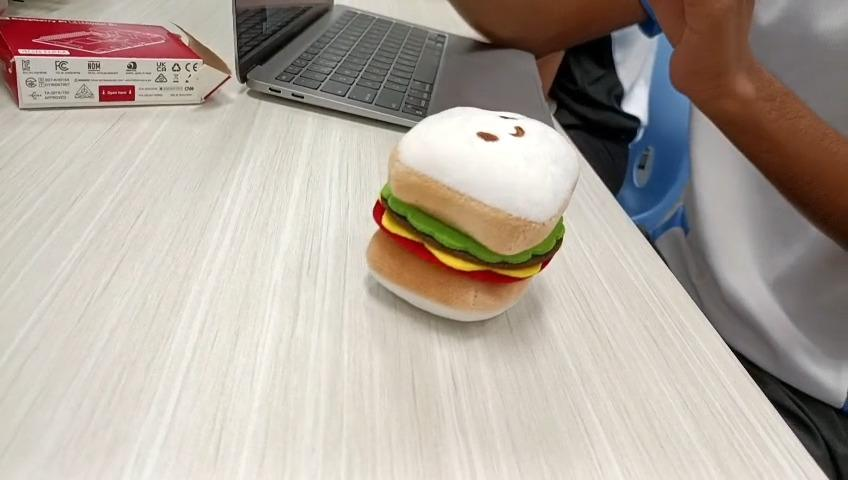objects: (364, 103, 587, 328)
